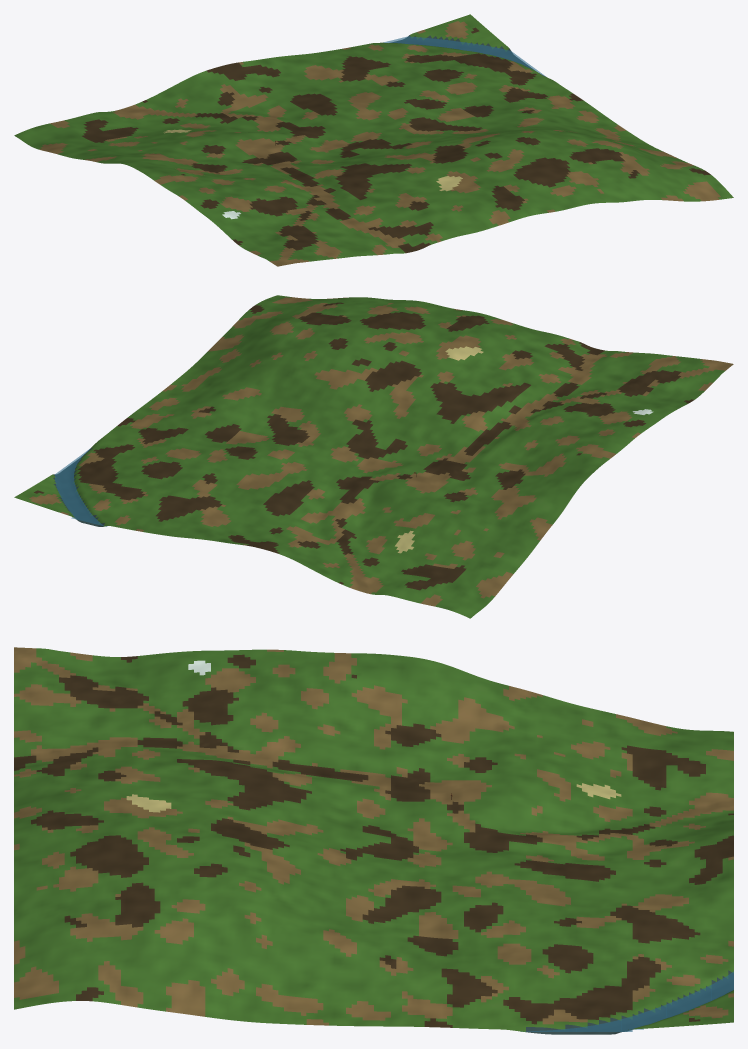
Rendered from chunk_1_5.glb.
3 views of the same model, one above another, from view 1: azimuth 30°, elevation 25°; view 2: azimuth 150°, elevation 25°; view 3: azimuth 270°, elevation 25° (orthographic). The views are drawn at different scales.
Visible parts, largest first — view 1: Surface_Grass, Surface_Dirt, Surface_Mud, Water, Surface_Water; view 2: Surface_Grass, Surface_Dirt, Surface_Mud, Surface_Water, Water, Surface_Sand; view 3: Surface_Grass, Surface_Dirt, Surface_Mud, Surface_Water, Water, Surface_Sand.
Part boxes in pixels (bbox=[...]): Surface_Grass: bbox=[14, 14, 733, 261]; Surface_Dirt: bbox=[39, 21, 720, 266]; Surface_Mud: bbox=[82, 27, 710, 253]; Water: bbox=[383, 36, 545, 76]; Surface_Water: bbox=[391, 35, 545, 76]; Surface_Grass: bbox=[14, 295, 725, 618]; Surface_Dirt: bbox=[29, 297, 733, 606]; Surface_Mud: bbox=[34, 302, 694, 590]; Surface_Water: bbox=[53, 448, 104, 526]; Water: bbox=[55, 448, 107, 526]; Surface_Sand: bbox=[395, 346, 483, 553]; Surface_Grass: bbox=[14, 648, 733, 1032]; Surface_Dirt: bbox=[14, 647, 733, 1025]; Surface_Mud: bbox=[14, 654, 733, 1027]; Surface_Water: bbox=[526, 970, 733, 1034]; Water: bbox=[521, 971, 733, 1031]; Surface_Sand: bbox=[126, 783, 621, 812].
Bounding box in the file's own units: 256 × 33.14 × 256.
